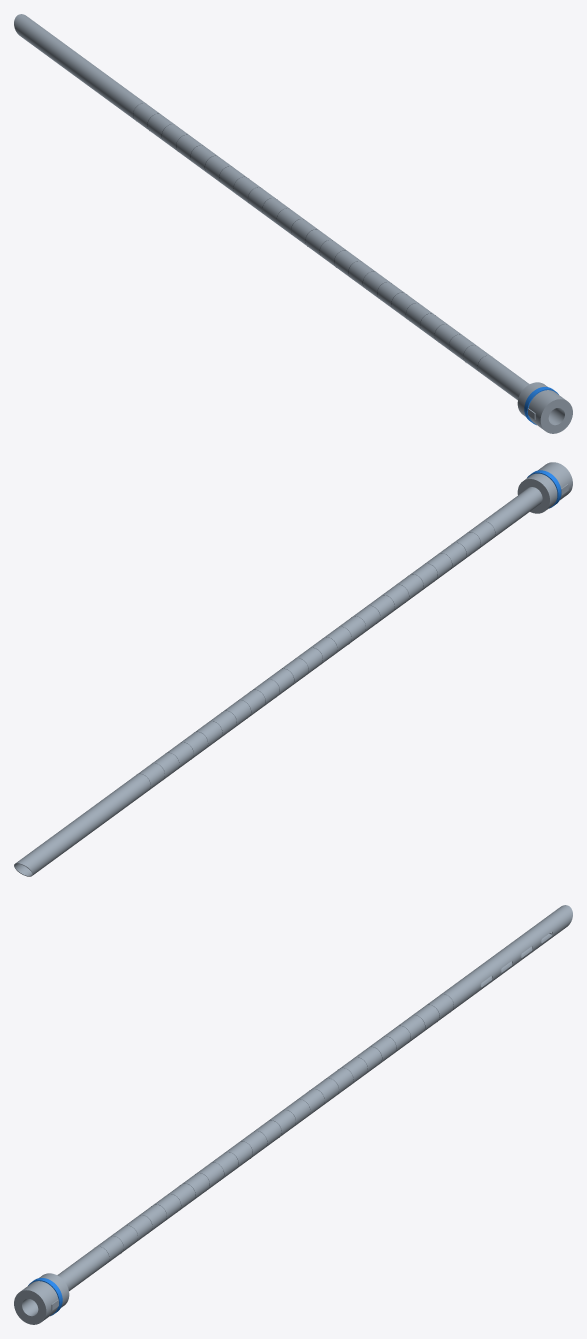
File: bt2106-3-bronchial-tube-od7p00-id6p50mm-ea92055e0f69.glb
3 renders of one model, top to bottom at view 1: azimuth 30°, elevation 25°; view 2: azimuth 150°, elevation 25°; view 3: azimuth 330°, elevation 25°, orthographic.
Parts seen in each view (by area): view 1: BT2106_3_Hollow_Beveled_Tube, BT2106_3_Quarter_Turn_Connector; view 2: BT2106_3_Hollow_Beveled_Tube, BT2106_3_Quarter_Turn_Connector; view 3: BT2106_3_Hollow_Beveled_Tube, BT2106_3_Quarter_Turn_Connector.
Boxes of the visible parts, left/top/right/bottom form: BT2106_3_Hollow_Beveled_Tube: left=14, top=14, right=529, bottom=400; BT2106_3_Quarter_Turn_Connector: left=517, top=382, right=572, bottom=433; BT2106_3_Hollow_Beveled_Tube: left=14, top=487, right=542, bottom=876; BT2106_3_Quarter_Turn_Connector: left=517, top=462, right=572, bottom=513; BT2106_3_Hollow_Beveled_Tube: left=57, top=905, right=572, bottom=1291; BT2106_3_Quarter_Turn_Connector: left=14, top=1273, right=69, bottom=1324.
Size of the model in its own units: 0.0137 by 0.0137 by 0.374.
